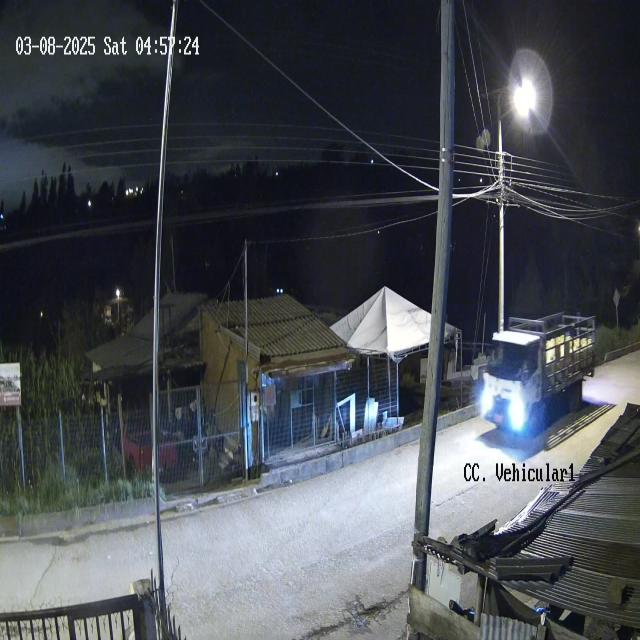TRUCK: (481, 310, 597, 440)
